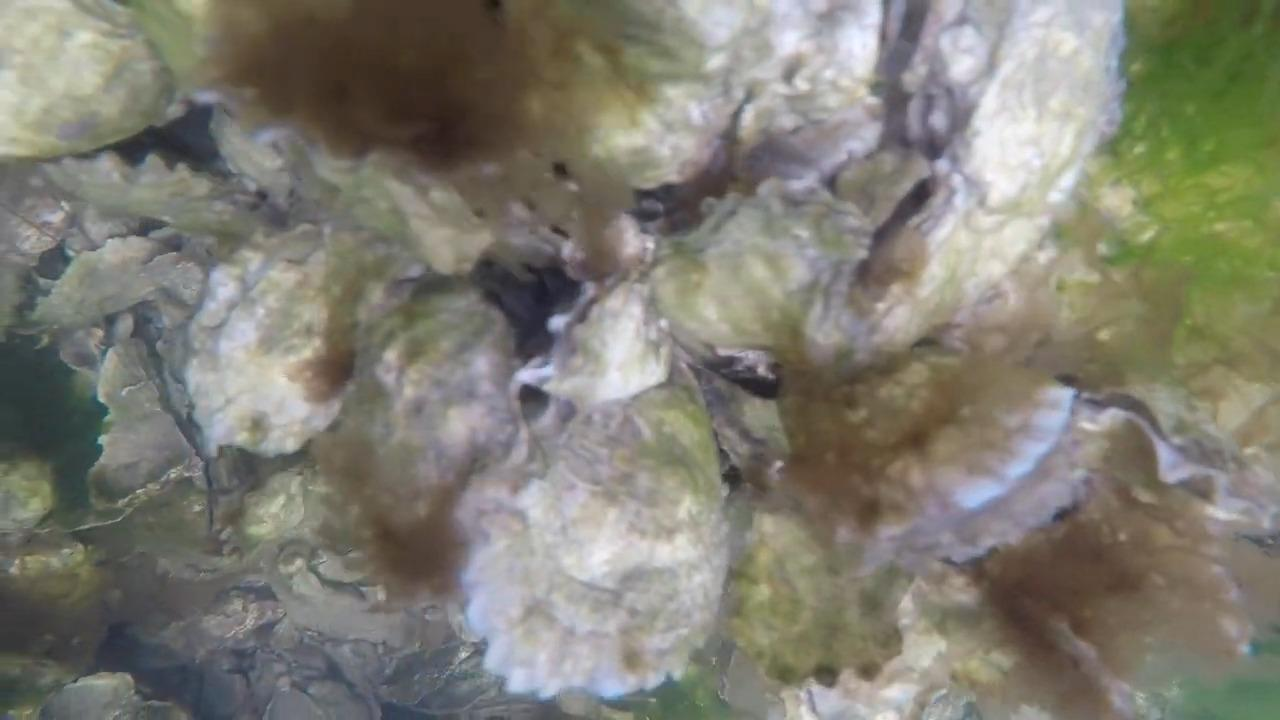Oyster: (636, 6, 1124, 379), (454, 361, 738, 704), (459, 357, 721, 688), (955, 470, 1265, 715), (320, 270, 527, 550), (184, 223, 433, 451), (652, 5, 917, 205), (834, 360, 1081, 572), (915, 1, 1125, 243), (479, 6, 736, 199), (820, 174, 1059, 370), (85, 390, 321, 587), (169, 241, 359, 458), (642, 187, 863, 368), (721, 492, 919, 691), (1088, 348, 1280, 541), (0, 1, 177, 163), (35, 143, 263, 252), (84, 326, 208, 513), (257, 537, 437, 652), (341, 153, 502, 279), (31, 232, 208, 337), (535, 278, 670, 415), (0, 499, 113, 656), (227, 458, 338, 561), (33, 669, 144, 720), (0, 451, 62, 533)
